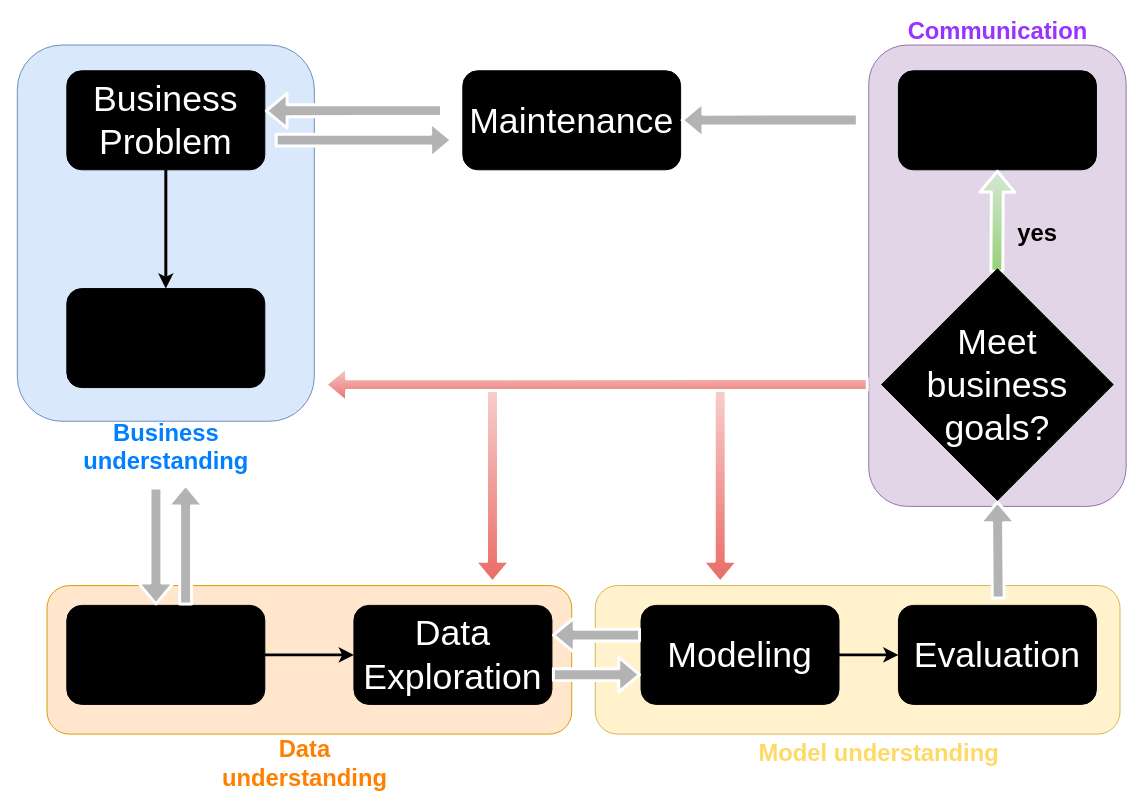
Image size: 1143x810. Some labels were removed from this diagram. Here are the shapes that lost their labels. From the top down, the box of each, then its label:
(897, 70, 1096, 170): Deployment
(66, 288, 265, 388): Problem Formulation
(66, 604, 265, 704): Data Collection
